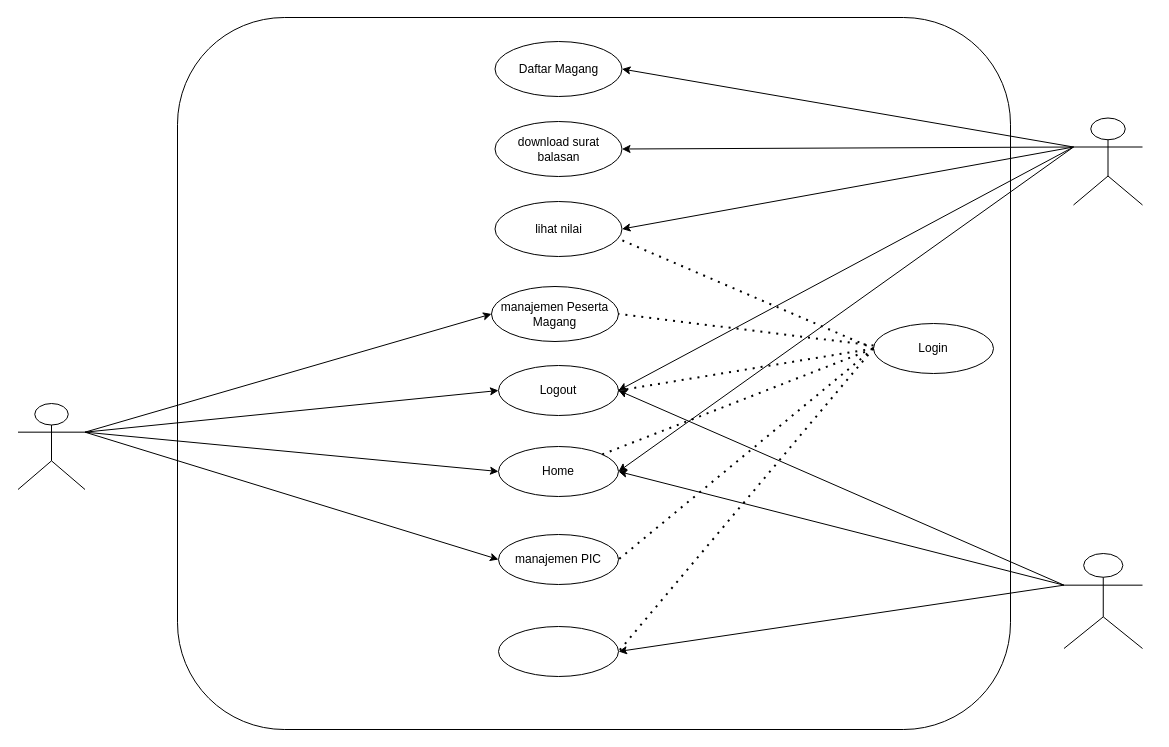
Some shapes in this 1169 by 747 pixel diagram are drawn without their labels. The shapes that lost their labels are listed below. From the top down, each one's centre as x and y in pixels, then its label:
At point 1107,161: "Peserta Magang".
At point 51,446: "admin".
At point 1102,600: "PIC".
At point 558,651: "manajemen nilai".
